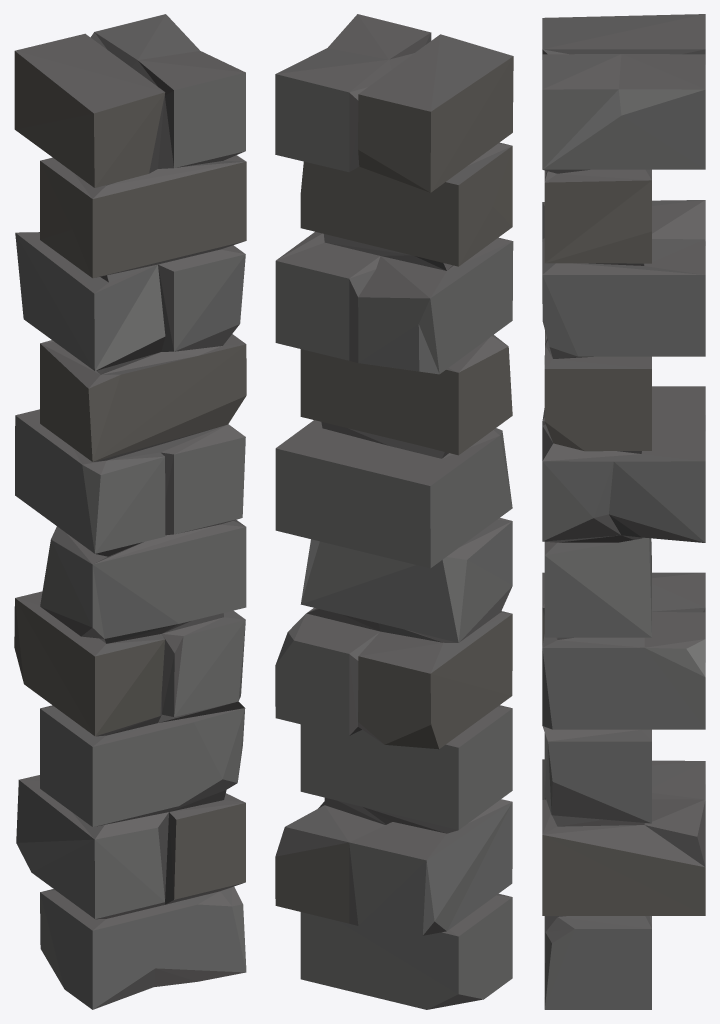
Rendered from SM_Env_Wall_End_01.FBX.
The picture shows the model from 3 angles, left to right: view 1: azimuth 30°, elevation 25°; view 2: azimuth 150°, elevation 25°; view 3: azimuth 270°, elevation 25°; orthographic projection. The views are drawn at different scales.
Visible parts, largest first — view 1: SM_Env_Wall_End_01; view 2: SM_Env_Wall_End_01; view 3: SM_Env_Wall_End_01.
Boxes of the visible parts, <box> form: SM_Env_Wall_End_01: <box>14,14,246,1009</box>; SM_Env_Wall_End_01: <box>275,14,513,1009</box>; SM_Env_Wall_End_01: <box>542,14,705,1009</box>.
Size of what is drawn, in the model's own units: 90.43 by 81.06 by 505.
